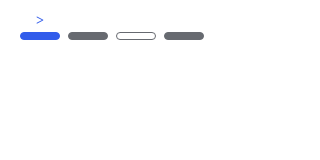
Test: BeatPattern › follows the beats its owner keeps
The width and height of the screenshot is (320, 160).
What coordinates should you click on to do the following:
click the button named "Beat 1, accent"
I would click on:
 (40, 30)
Its box is [20,8,60,52].
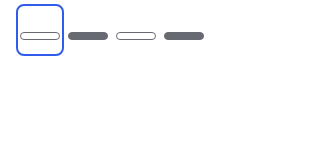
Result: the button named "Beat 1, skipped" is shown at [20,8,60,52]
